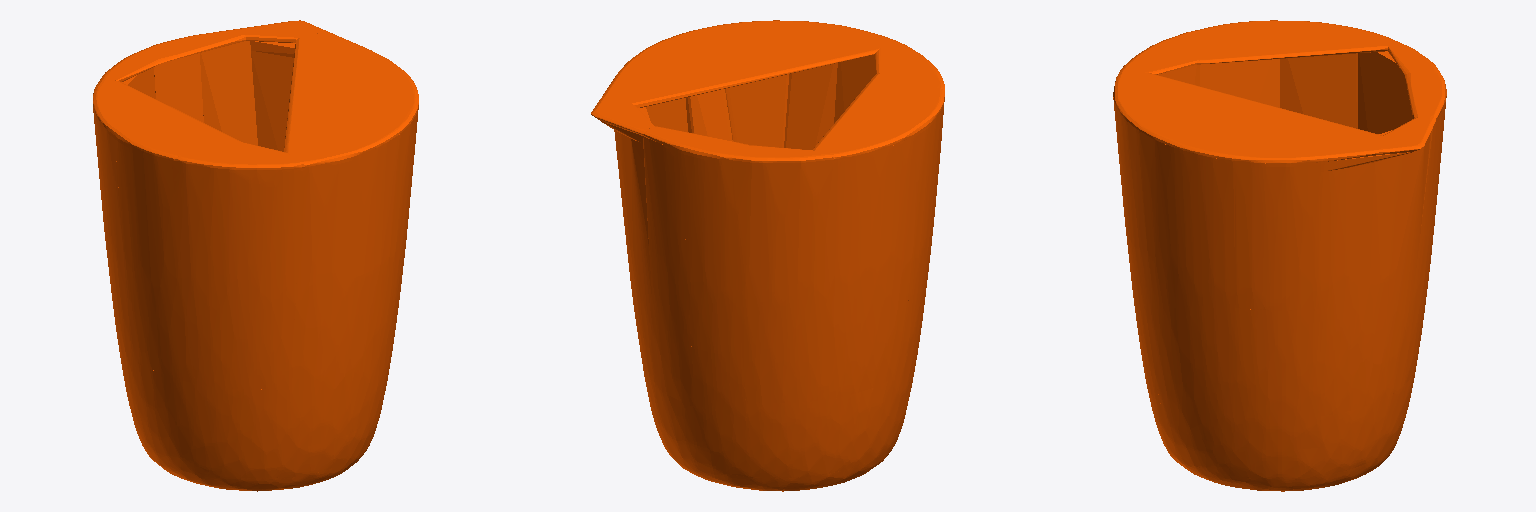
robot.urdf — design:
<?xml version="1.0"?>
<robot name="design">
  <material name="obj_color">
      <color rgba="1.0 0.423529411765 0.0392156862745 1.0"/>
  </material>
  <link name="base">
    <visual>
      <origin xyz="0.0 0.0 0.0"/>
      <geometry>
        <mesh filename="cup.obj" scale="1 1 1"/>
      </geometry>
      <material name="obj_color"/>
    </visual>
    <collision>
      <origin xyz="0.0 0.0 0.0"/>
      <geometry>
        <mesh filename="cup.obj" scale="1 1 1"/>
      </geometry>
    </collision>
  </link>
</robot>

--- Facts derived from the render (not from the file) ---
3 views of the same robot in one strip: view 1: azimuth 30°, elevation 25°; view 2: azimuth 150°, elevation 25°; view 3: azimuth 270°, elevation 25° (orthographic).
Robot: design — 1 links, 0 joints (none); root link base; default pose: every joint at zero.
Links seen in each view (by area): view 1: base; view 2: base; view 3: base.
Boxes of the visible links, x1=… form: base: x1=93, y1=20, x2=418, y2=491; base: x1=591, y1=20, x2=944, y2=491; base: x1=1113, y1=20, x2=1446, y2=491.
Bounding box of the posed robot: 0.0855 × 0.0856 × 0.1011 m (x, y, z).
Meshes: 1 distinct files referenced, 1 mesh visuals loaded (1 OBJ).
